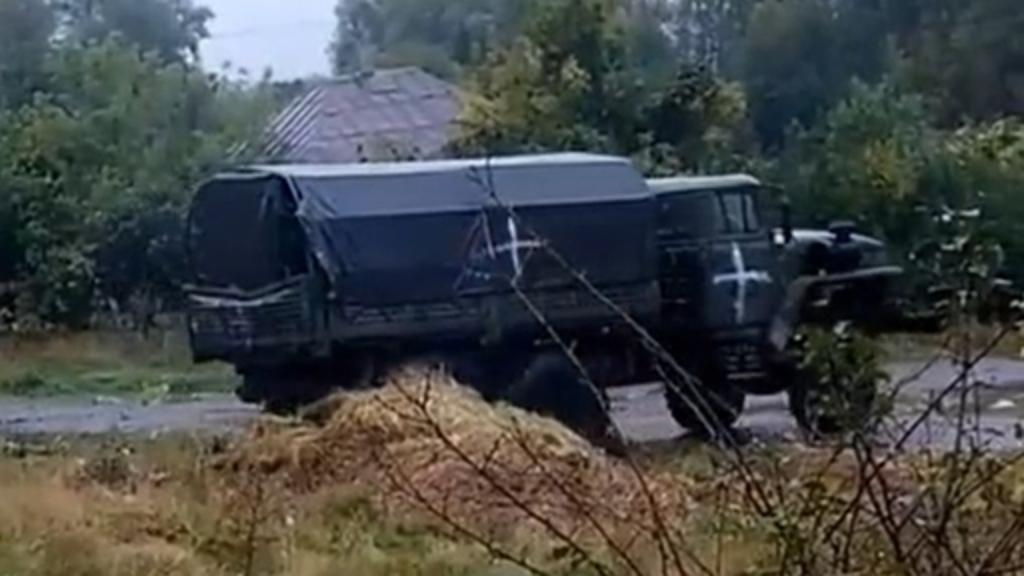TRUCK: (182, 128, 906, 478)
